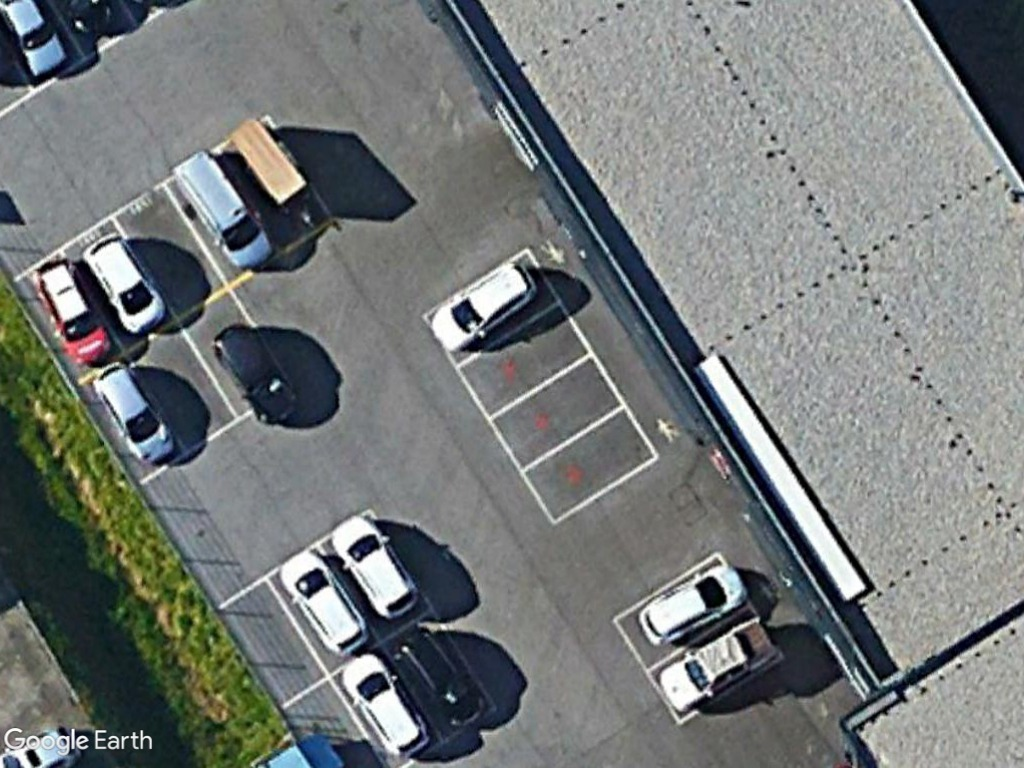car: (658, 610, 778, 716), (320, 509, 424, 624), (387, 619, 493, 731), (202, 319, 306, 433), (425, 256, 537, 357), (75, 227, 173, 341), (88, 353, 184, 468), (632, 557, 749, 649), (337, 649, 432, 762), (274, 548, 371, 657), (29, 261, 116, 366)
van: (168, 146, 278, 274)
